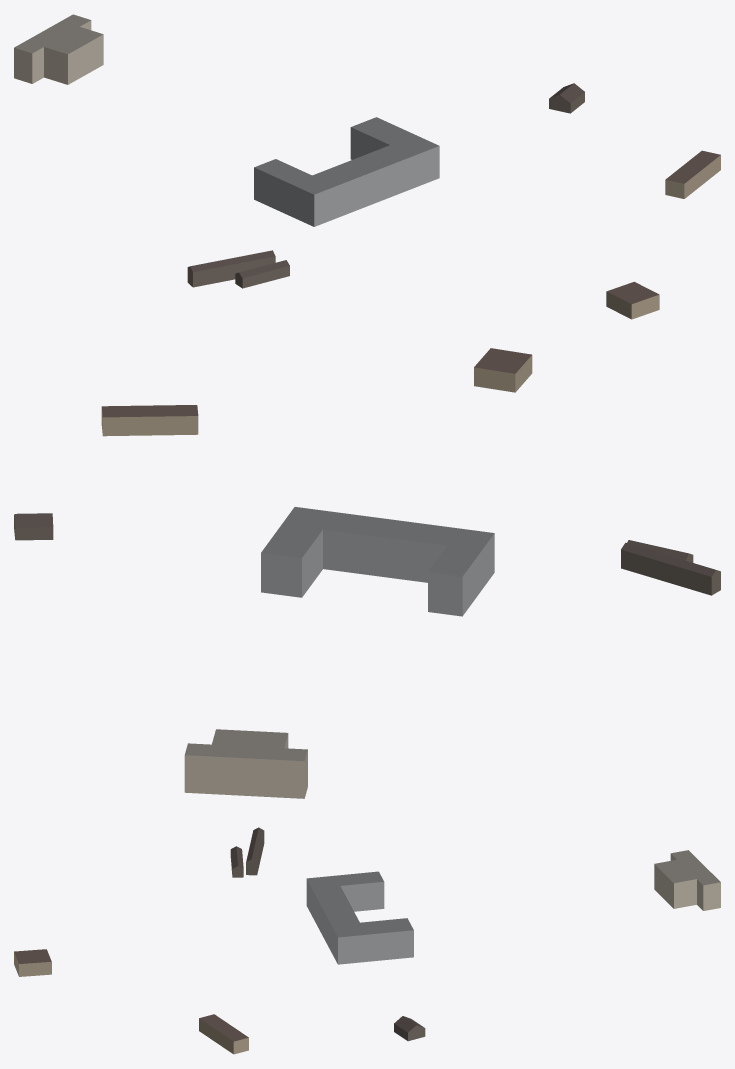
Rendered from tile_6_1.glb.
3 renders of one model, top to bottom at view 1: azimuth 30°, elevation 25°; view 2: azimuth 150°, elevation 25°; view 3: azimuth 270°, elevation 25°, orthographic. The views are drawn at different scales.
Parts seen in each view (by area): view 1: HP-w441873546, HP-w1287059337, HP-w1287061522, HP-w307448821, HP-w1467986577, HP-w1287061523, HP-w1287061526; view 2: HP-w441873546, HP-w1287059337, HP-w307448821, HP-w1287061522, HP-w1467986577, HP-w1287061526; view 3: HP-w441873546, HP-w1287059337, HP-w307448821, HP-w1467986577, HP-w1287061522, HP-w1287061526, HP-w1287061523.
Boxes of the visible parts, bbox=[...] form: HP-w441873546: bbox=[254, 117, 439, 226]; HP-w1287059337: bbox=[14, 14, 103, 84]; HP-w1287061522: bbox=[187, 250, 275, 287]; HP-w307448821: bbox=[665, 150, 720, 198]; HP-w1467986577: bbox=[606, 281, 659, 319]; HP-w1287061523: bbox=[235, 260, 289, 288]; HP-w1287061526: bbox=[549, 83, 584, 113]; HP-w441873546: bbox=[261, 507, 494, 616]; HP-w1287059337: bbox=[184, 729, 307, 798]; HP-w307448821: bbox=[101, 405, 198, 436]; HP-w1287061522: bbox=[621, 542, 720, 595]; HP-w1467986577: bbox=[474, 348, 532, 392]; HP-w1287061526: bbox=[14, 513, 53, 540]; HP-w441873546: bbox=[306, 871, 413, 964]; HP-w1287059337: bbox=[654, 850, 720, 910]; HP-w307448821: bbox=[199, 1014, 248, 1054]; HP-w1467986577: bbox=[14, 949, 51, 976]; HP-w1287061522: bbox=[246, 827, 264, 875]; HP-w1287061526: bbox=[394, 1016, 425, 1041]; HP-w1287061523: bbox=[230, 846, 243, 877].
Bounding box in the file's own units: 317 × 19 × 448.
